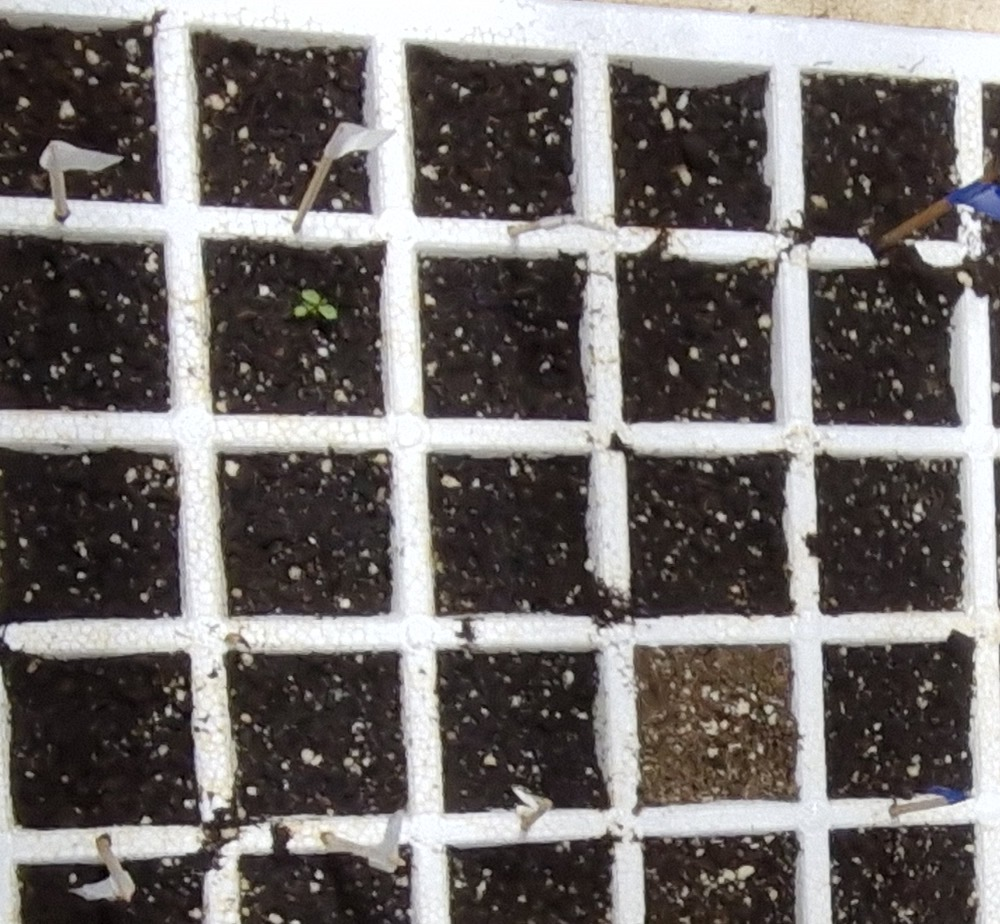Folha: (319, 305, 337, 318), (304, 290, 319, 304), (296, 307, 307, 316)
Germinacao: (293, 288, 339, 319)
